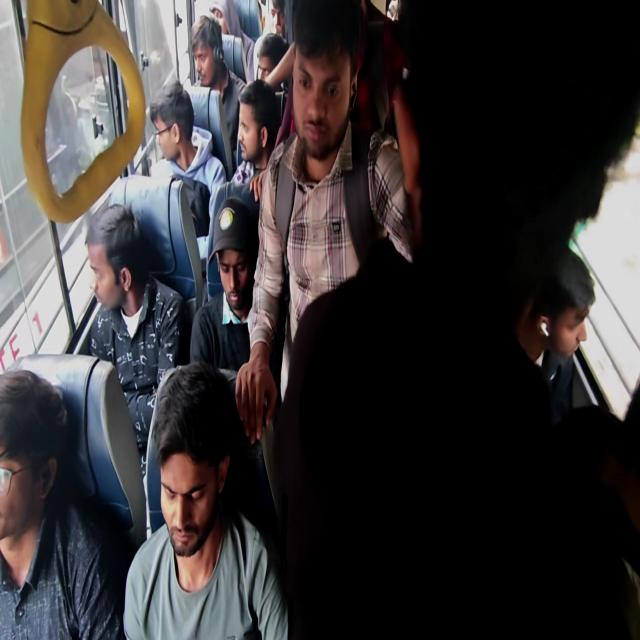person: (415, 12, 640, 480), (292, 11, 388, 272), (145, 363, 237, 579), (0, 385, 60, 633), (71, 101, 196, 215), (86, 234, 170, 356), (534, 280, 589, 360), (219, 218, 258, 324), (241, 86, 275, 176), (184, 21, 218, 85), (261, 44, 290, 103), (213, 0, 237, 39), (268, 6, 288, 44)
